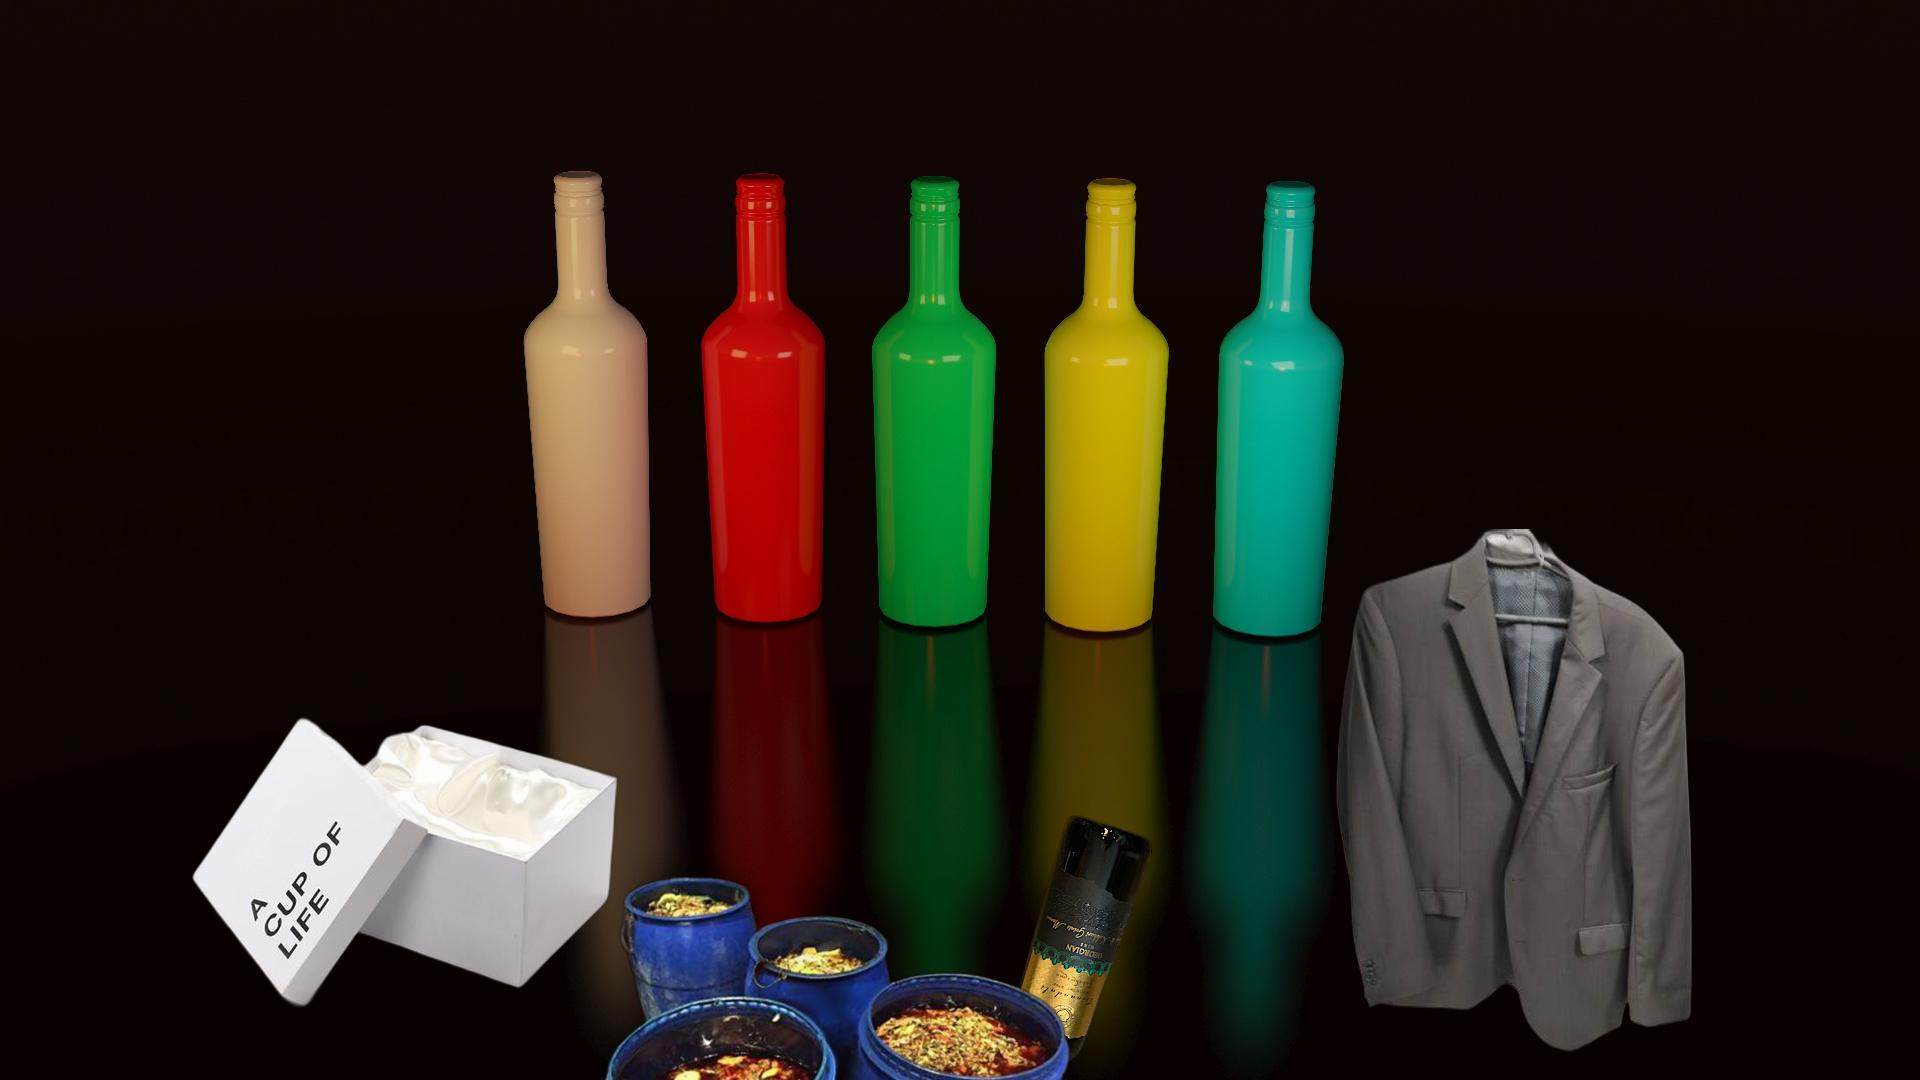biological: (603, 873, 1093, 1080)
clothes: (1333, 529, 1696, 1055)
glass: (994, 808, 1156, 1080)
trashbox-cardboard: (189, 713, 622, 1011)
